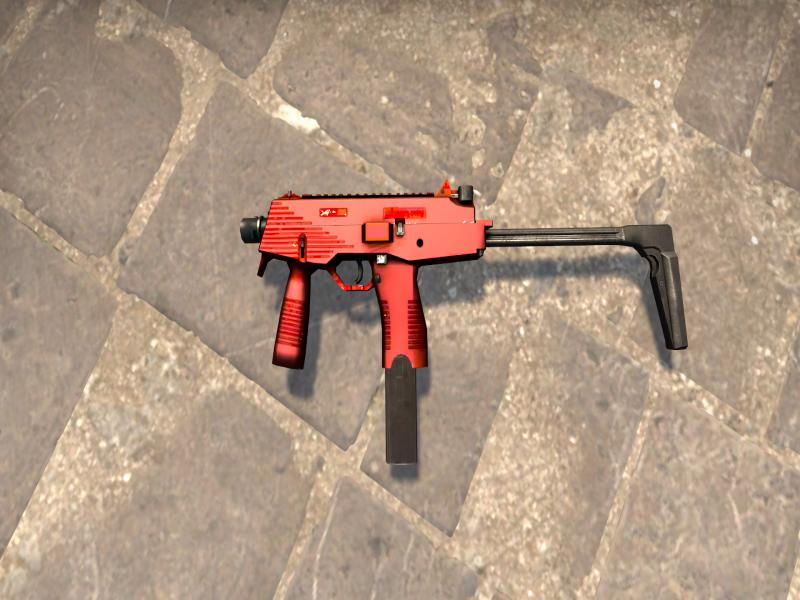MP9: (240, 184, 688, 462)
